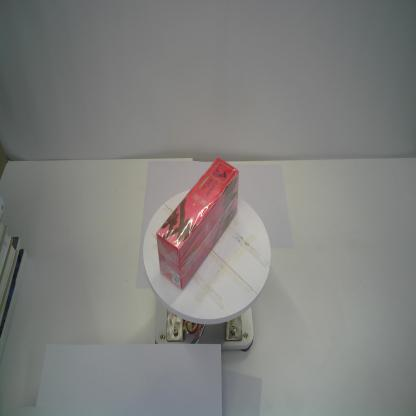Instant Drink: (156, 157, 240, 290)
